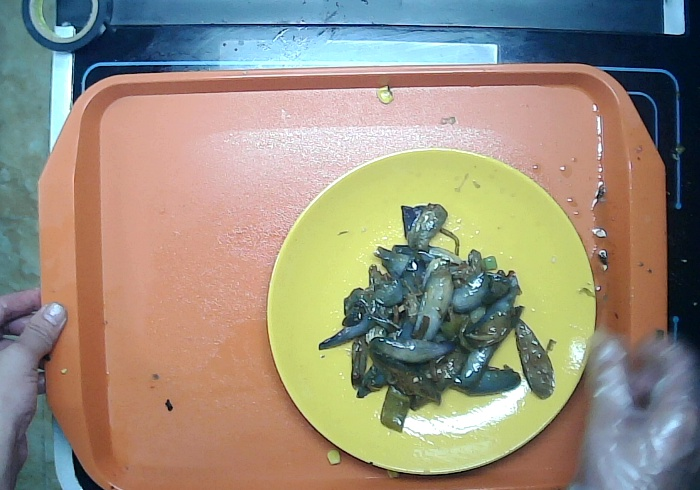HZYJPL-Huang_Se_Yuan_Pan: (264, 146, 599, 478)
